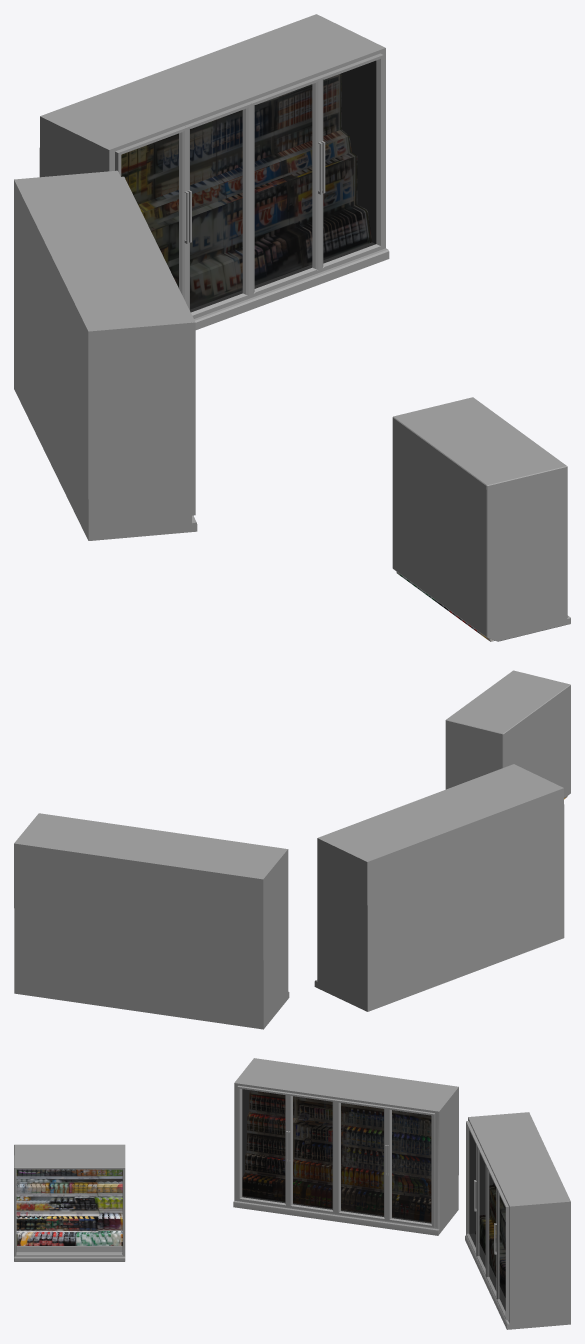
File: VendingSketchfab.fbx
3 views of the same model, one above another, from view 1: azimuth 30°, elevation 25°; view 2: azimuth 150°, elevation 25°; view 3: azimuth 270°, elevation 25° (orthographic). The views are drawn at different scales.
Visible parts, largest first — view 1: Fridge1.001, Fridge1, Cube; view 2: Fridge1.001, Fridge1, Cube; view 3: Fridge1, Fridge1.001, Cube.
Part boxes in pixels (x1,y1,x2,y2): Fridge1.001: [39, 14, 389, 329]; Fridge1: [14, 170, 197, 540]; Cube: [392, 397, 570, 641]; Fridge1.001: [14, 813, 289, 1029]; Fridge1: [314, 764, 564, 1011]; Cube: [445, 670, 570, 799]; Fridge1: [233, 1058, 458, 1235]; Fridge1.001: [465, 1112, 570, 1329]; Cube: [14, 1144, 125, 1261].
Size of the model in its own units: 2639 by 1032 by 4197.
Materials: 4 (2 with a texture image).
